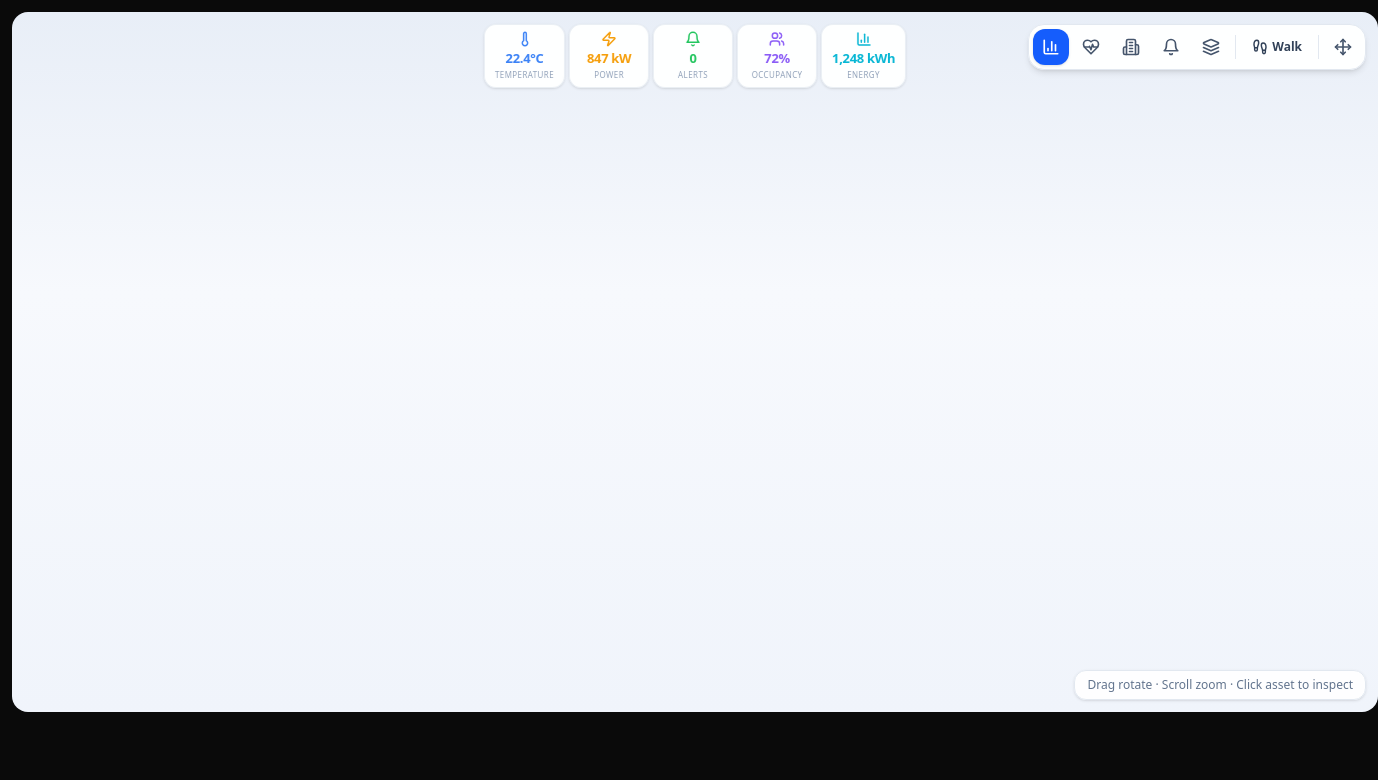
Scenario: DigitalTwinViewer3D › shows floor selector with All Floors + L1 + L2 buttons
# Open floor selector via icon rail first
Click the button titled "Floor selector".
click(1131, 47)  # box [1113,29,1149,65]
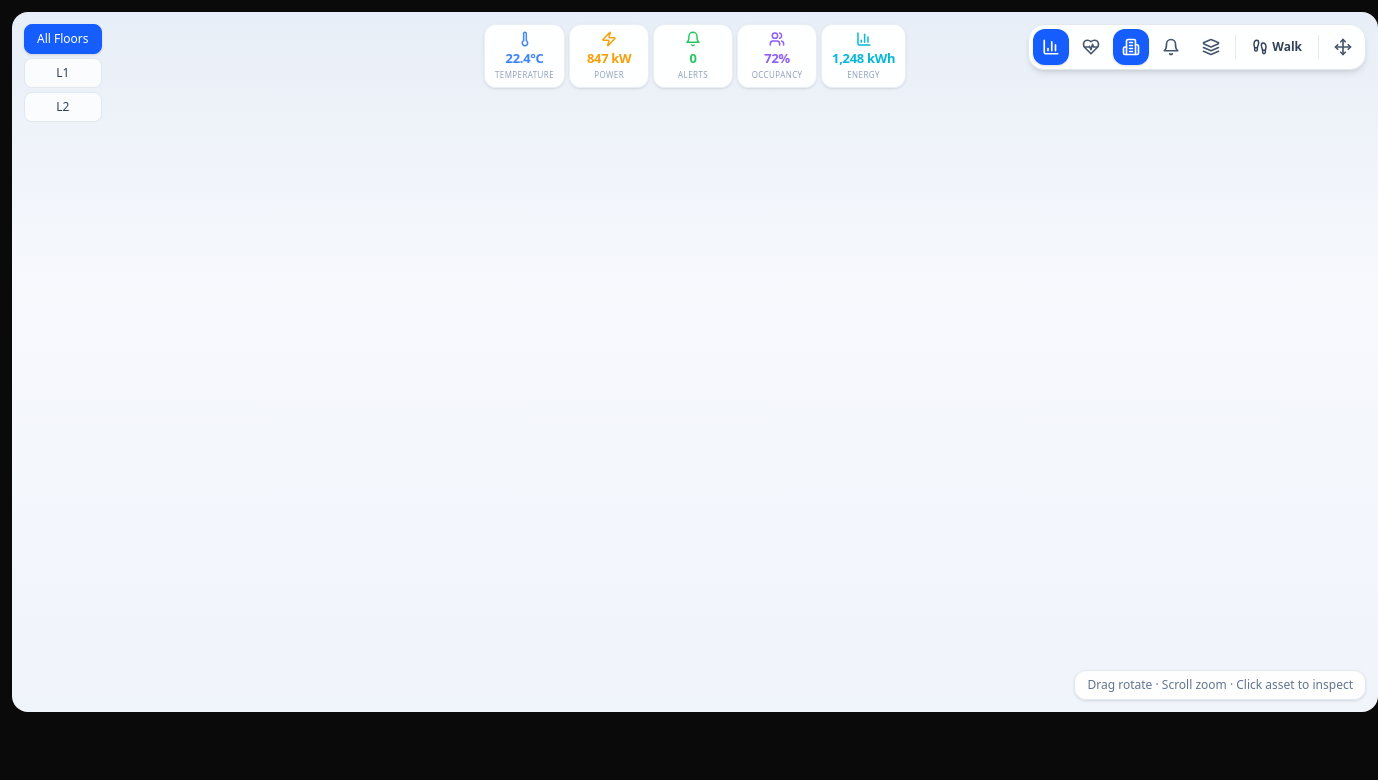
Now the button "All Floors" is shown, box [24,24,102,54]
Now the button "L1" is shown, box [24,58,102,88]
Now the button "L2" is shown, box [24,92,102,122]
